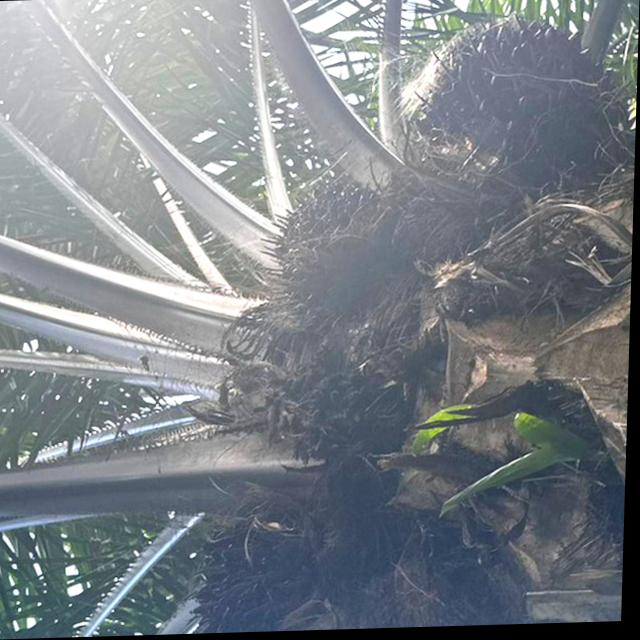unripe: (254, 170, 408, 307)
